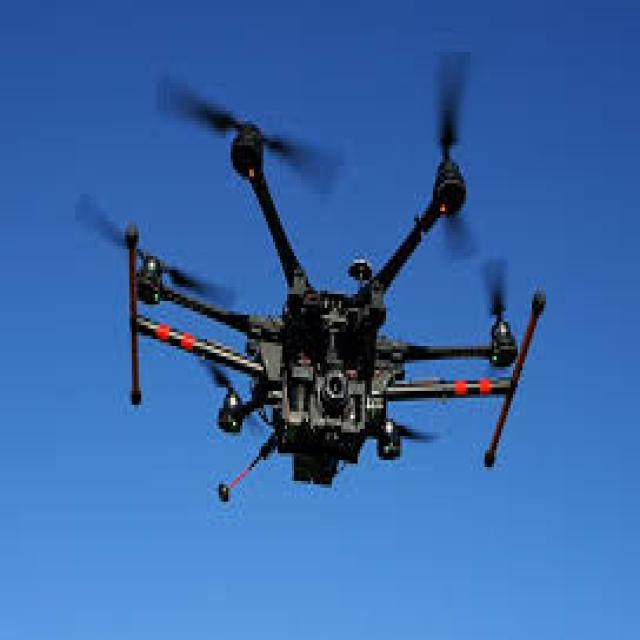drone: (101, 140, 560, 512)
